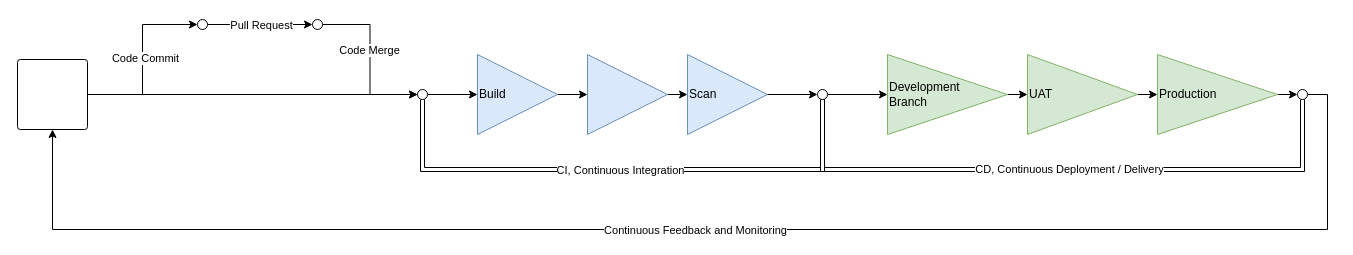
Some shapes in this 1353 by 255 pixel diagram are drawn without their labels. The centre of each missing label's shape, as x and y in pixels:
Developer: pixel 52 94
Test: pixel 627 94
